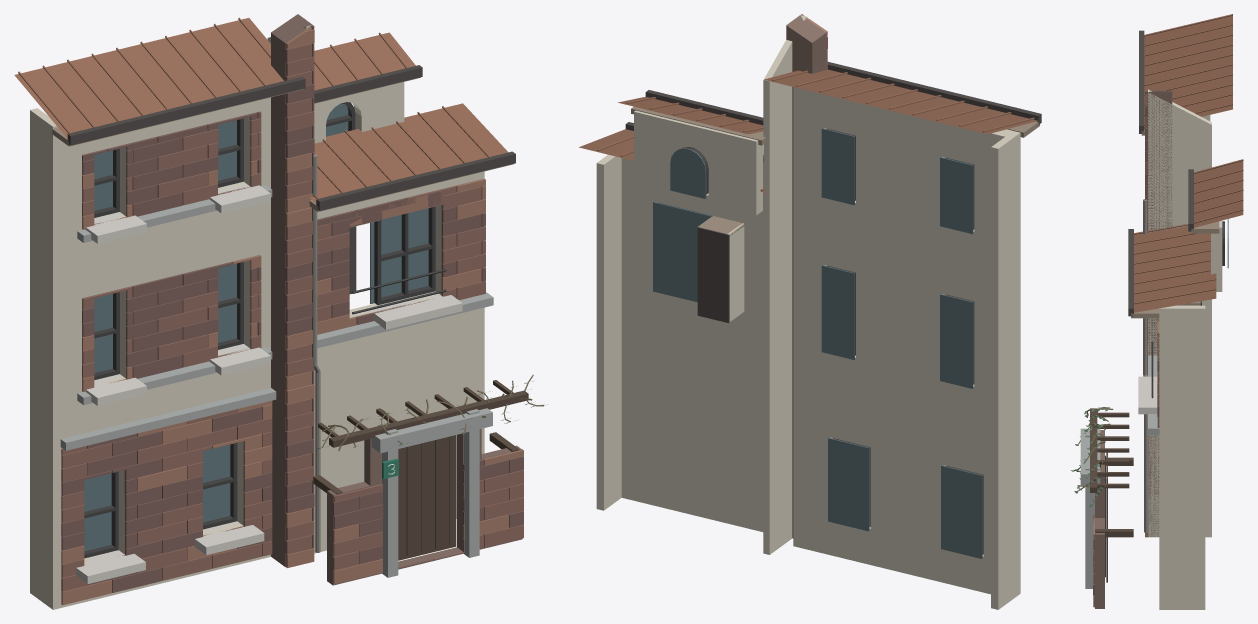
Rendered from jingan-yuhua-new-residential-quarter-03-lod.glb.
3 renders of one model, left to right at view 1: azimuth 30°, elevation 25°; view 2: azimuth 150°, elevation 25°; view 3: azimuth 270°, elevation 25°, orthographic. The views are drawn at different scales.
Visible parts, largest first — view 1: 裕华新村3号（临弄院门与可见楼面）; view 2: 裕华新村3号（临弄院门与可见楼面）; view 3: 裕华新村3号（临弄院门与可见楼面）.
Part boxes in pixels (x1,y1,x2,y2): 裕华新村3号（临弄院门与可见楼面）: (14, 14, 547, 609); 裕华新村3号（临弄院门与可见楼面）: (579, 14, 1041, 609); 裕华新村3号（临弄院门与可见楼面）: (1071, 14, 1243, 609).
Bounding box in the file's own units: 8.25 × 9.42 × 3.32.
